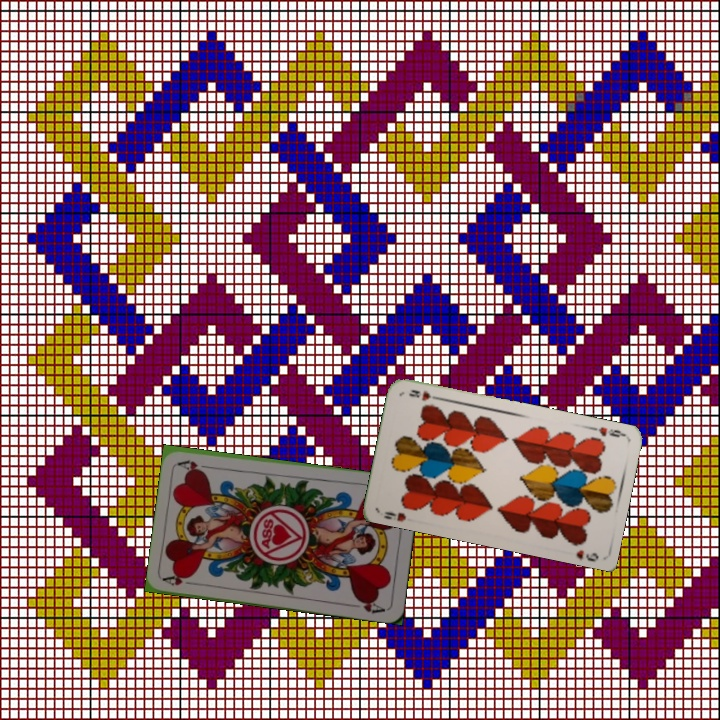H9: (587, 423, 627, 440), (379, 508, 408, 524)
HA: (160, 571, 201, 588)
